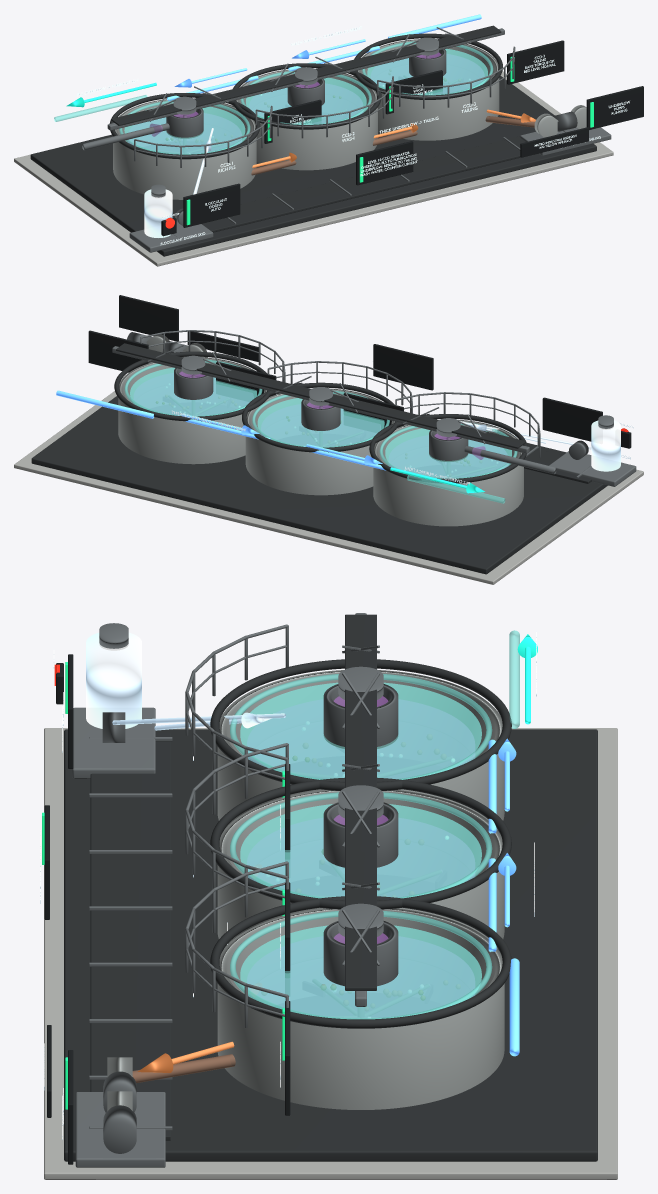
Rendered from CCDThickener_Redesign.fbx.
3 views of the same model, one above another, from view 1: azimuth 30°, elevation 25°; view 2: azimuth 150°, elevation 25°; view 3: azimuth 270°, elevation 25° (orthographic). The views are drawn at different scales.
Parts seen in each view (by area): view 1: CCD_DarkSkidPerimeter_Frame, CCD_ConcreteSecondaryContainment_Pad, CCD1_OpenCircularTank_Wall, CCD_GratedWalkway_Main, CCD3_OpenCircularTank_Wall, CCD2_OpenCircularTank_Wall, CCD1_ClearPLS_Surface, CCD2_ClearPLS_Surface, CCD3_ClearPLS_Surface, FlocculantSkid_Panel_Backplate, CCD_MainTrainingPanel_Backplate, CCD3_LocalTorquePanel_Backplate (+29 smaller); view 2: CCD_DarkSkidPerimeter_Frame, CCD1_OpenCircularTank_Wall, CCD_ConcreteSecondaryContainment_Pad, CCD2_OpenCircularTank_Wall, CCD3_OpenCircularTank_Wall, CCD2_ClearPLS_Surface, CCD3_ClearPLS_Surface, CCD1_ClearPLS_Surface, CCD1_SettlingZone_XRayColumn, CCD_MainTrainingPanel_Backplate, UnderflowPumpStation_HMI_Backplate, CCD2_SettlingZone_XRayColumn (+25 smaller); view 3: CCD_DarkSkidPerimeter_Frame, CCD3_OpenCircularTank_Wall, CCD_ConcreteSecondaryContainment_Pad, CCD_GratedWalkway_Main, CCD3_ClearPLS_Surface, CCD1_ClearPLS_Surface, CCD2_ClearPLS_Surface, CCD2_OpenCircularTank_Wall, CCD1_OpenCircularTank_Wall, CCD3_SettlingZone_XRayColumn, CCD2_SettlingZone_XRayColumn, CCD1_SettlingZone_XRayColumn (+22 smaller).
Boxes of the visible parts, x1=… form: CCD_DarkSkidPerimeter_Frame: x1=30, y1=75, x2=596, y2=256; CCD_ConcreteSecondaryContainment_Pad: x1=14, y1=71, x2=613, y2=266; CCD1_OpenCircularTank_Wall: x1=113, y1=98, x2=256, y2=199; CCD_GratedWalkway_Main: x1=202, y1=136, x2=525, y2=232; CCD3_OpenCircularTank_Wall: x1=357, y1=39, x2=499, y2=140; CCD2_OpenCircularTank_Wall: x1=236, y1=68, x2=377, y2=170; CCD1_ClearPLS_Surface: x1=124, y1=105, x2=245, y2=153; CCD2_ClearPLS_Surface: x1=246, y1=77, x2=366, y2=124; CCD3_ClearPLS_Surface: x1=367, y1=48, x2=487, y2=94; FlocculantSkid_Panel_Backplate: x1=183, y1=183, x2=240, y2=227; CCD_MainTrainingPanel_Backplate: x1=356, y1=141, x2=413, y2=185; CCD3_LocalTorquePanel_Backplate: x1=507, y1=40, x2=564, y2=84; CCD_DarkSkidPerimeter_Frame: x1=31, y1=396, x2=607, y2=574; CCD1_OpenCircularTank_Wall: x1=373, y1=419, x2=523, y2=526; CCD_ConcreteSecondaryContainment_Pad: x1=14, y1=391, x2=643, y2=584; CCD2_OpenCircularTank_Wall: x1=245, y1=388, x2=394, y2=495; CCD3_OpenCircularTank_Wall: x1=118, y1=357, x2=266, y2=464; CCD2_ClearPLS_Surface: x1=257, y1=398, x2=384, y2=446; CCD3_ClearPLS_Surface: x1=130, y1=367, x2=256, y2=415; CCD1_ClearPLS_Surface: x1=385, y1=428, x2=511, y2=478; CCD1_SettlingZone_XRayColumn: x1=389, y1=435, x2=507, y2=477; CCD_MainTrainingPanel_Backplate: x1=373, y1=344, x2=433, y2=390; UnderflowPumpStation_HMI_Backplate: x1=119, y1=295, x2=178, y2=341; CCD2_SettlingZone_XRayColumn: x1=261, y1=404, x2=376, y2=446; CCD_DarkSkidPerimeter_Frame: x1=64, y1=729, x2=597, y2=1161; CCD3_OpenCircularTank_Wall: x1=217, y1=908, x2=504, y2=1109; CCD_ConcreteSecondaryContainment_Pad: x1=44, y1=728, x2=617, y2=1179; CCD_GratedWalkway_Main: x1=90, y1=733, x2=170, y2=1140; CCD3_ClearPLS_Surface: x1=240, y1=925, x2=481, y2=1018; CCD1_ClearPLS_Surface: x1=240, y1=682, x2=481, y2=779; CCD2_ClearPLS_Surface: x1=240, y1=804, x2=481, y2=897; CCD2_OpenCircularTank_Wall: x1=217, y1=790, x2=504, y2=948; CCD1_OpenCircularTank_Wall: x1=217, y1=670, x2=504, y2=830; CCD3_SettlingZone_XRayColumn: x1=247, y1=937, x2=474, y2=1016; CCD2_SettlingZone_XRayColumn: x1=247, y1=818, x2=474, y2=896; CCD1_SettlingZone_XRayColumn: x1=247, y1=700, x2=474, y2=778.
Size of the model in its own units: 1706 by 297 by 866.
